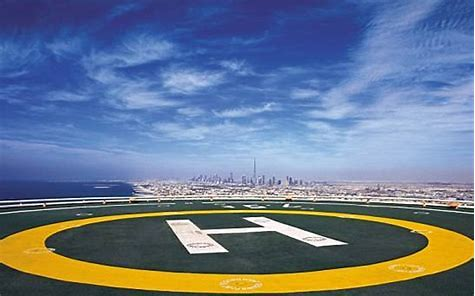H: (165, 217, 350, 255)
